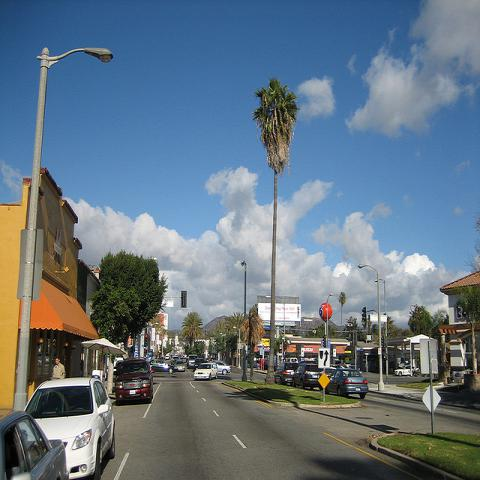car: (22, 378, 115, 480), (0, 409, 67, 473), (114, 358, 156, 404), (326, 370, 368, 398), (290, 364, 323, 390), (273, 360, 299, 386), (193, 362, 219, 380), (152, 358, 178, 374), (394, 364, 416, 376), (213, 361, 231, 375), (186, 355, 198, 368), (174, 359, 185, 372), (165, 356, 170, 360)
